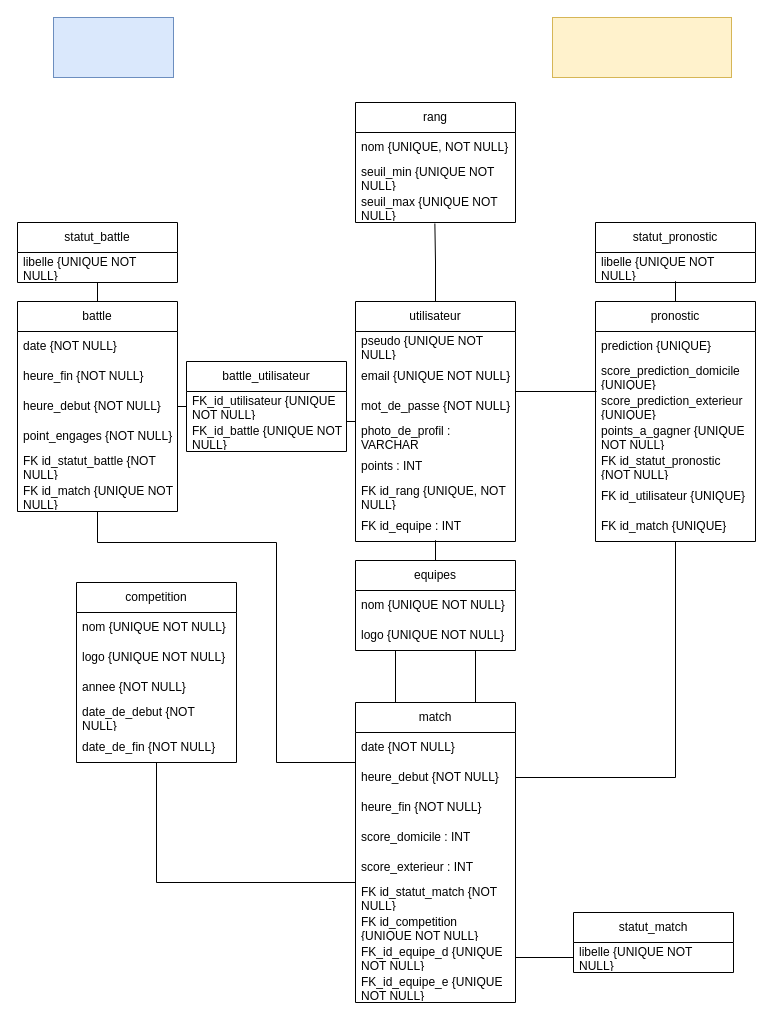
This 773x1020 diagram has some shape labels left out. Here are the shapes that lost their labels. From the top down, the centre of each, then its label:
At pixel 113 47: "MLD".
At pixel 642 47: "Tous les objets contiennent un PK_ID {UNIQUE, NOT NULL}".
